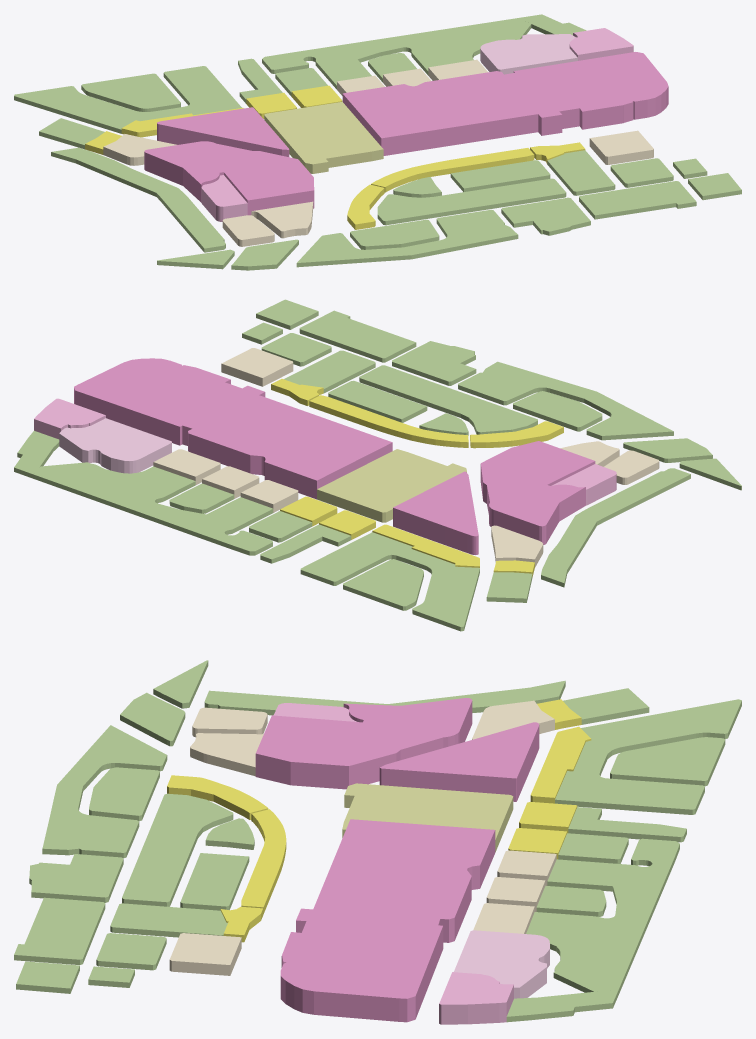
Rendered from giraffe-gltf-export_5560-15sep21_translucent.glb.
3 views of the same model, one above another, from view 1: azimuth 30°, elevation 25°; view 2: azimuth 150°, elevation 25°; view 3: azimuth 270°, elevation 25° (orthographic). The views are drawn at different scales.
Parts seen in each view (by area): view 1: 371677, 371678, 371680, 372054, 372050, 371676, 372067, 372057, 371673, 372064, 371671, 372070 (+32 smaller); view 2: 371677, 371678, 372054, 371680, 372050, 371676, 372067, 371673, 372057, 371671, 372064, 372070 (+31 smaller); view 3: 371678, 371677, 371680, 372054, 372050, 372067, 371673, 371676, 372057, 371671, 372070, 372051 (+32 smaller).
Part boxes in pixels (x1,y1,x2,y2): 371677: (342,71,538,155); 371678: (504,52,668,135); 371680: (144,141,314,215); 372054: (262,18,531,89); 372050: (14,66,241,133); 371676: (264,102,383,173); 372067: (296,209,518,267); 372057: (377,178,566,225); 371673: (157,107,289,156); 372064: (51,147,225,252); 371671: (480,34,577,74); 372070: (579,181,696,219); 371677: (188,395,392,499); 371678: (74,358,265,445); 372054: (34,462,273,555); 371680: (480,441,595,544); 372050: (300,532,479,631); 371676: (317,449,466,522); 372067: (458,361,673,440); 371673: (393,471,478,554); 372057: (359,365,537,434); 371671: (59,418,171,473); 372064: (541,468,690,587); 372070: (299,310,416,362); 371678: (280,908,443,1022); 371677: (313,819,495,942); 371680: (255,698,472,789); 372054: (526,838,679,993); 372050: (555,699,741,814); 372067: (42,725,167,858); 371673: (379,722,539,801); 371676: (342,783,513,852); 372057: (122,793,233,906); 371671: (454,930,549,998); 372070: (14,897,105,964); 372051: (610,737,725,786).
Bounding box in the file's own units: 1235 × 37.7 × 1059.
